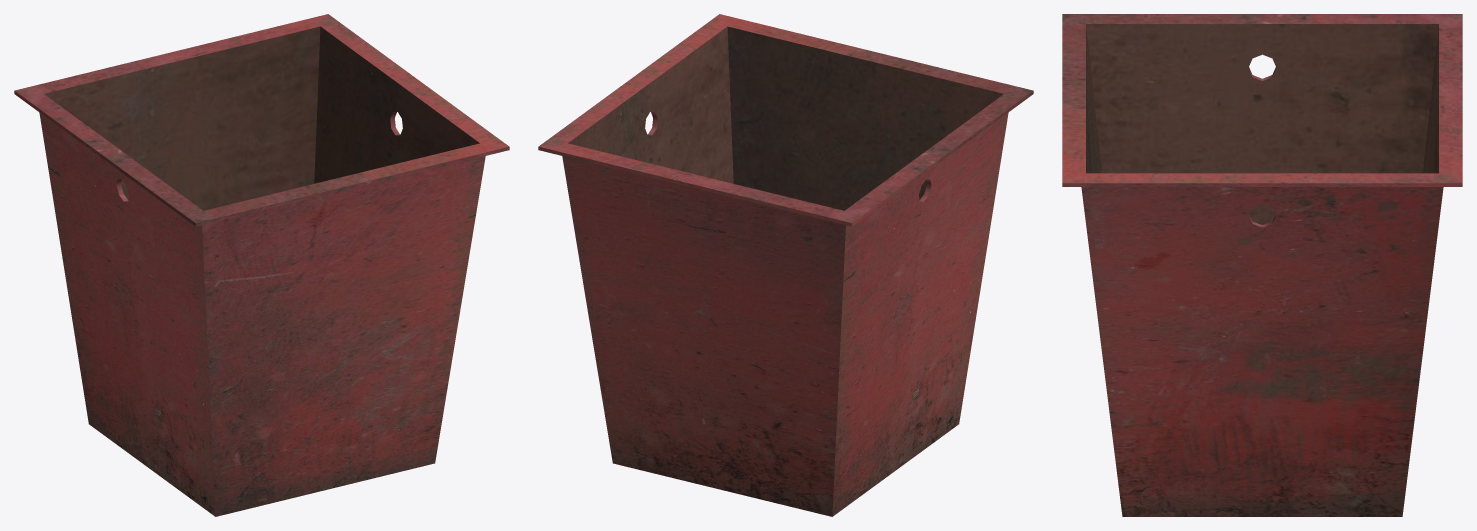
The model's file is sf_trash.glb.
3 renders of one model, left to right at view 1: azimuth 30°, elevation 25°; view 2: azimuth 150°, elevation 25°; view 3: azimuth 270°, elevation 25°, orthographic. The views are drawn at different scales.
Visible parts, largest first — view 1: can_trashcan_0; view 2: can_trashcan_0; view 3: can_trashcan_0.
Boxes of the visible parts, x1=… form: can_trashcan_0: x1=14, y1=14, x2=509, y2=516; can_trashcan_0: x1=538, y1=14, x2=1033, y2=516; can_trashcan_0: x1=1062, y1=14, x2=1462, y2=516.
Size of the model in its own units: 0.9095 by 0.9 by 0.9095.
1 material, 1 textured.
